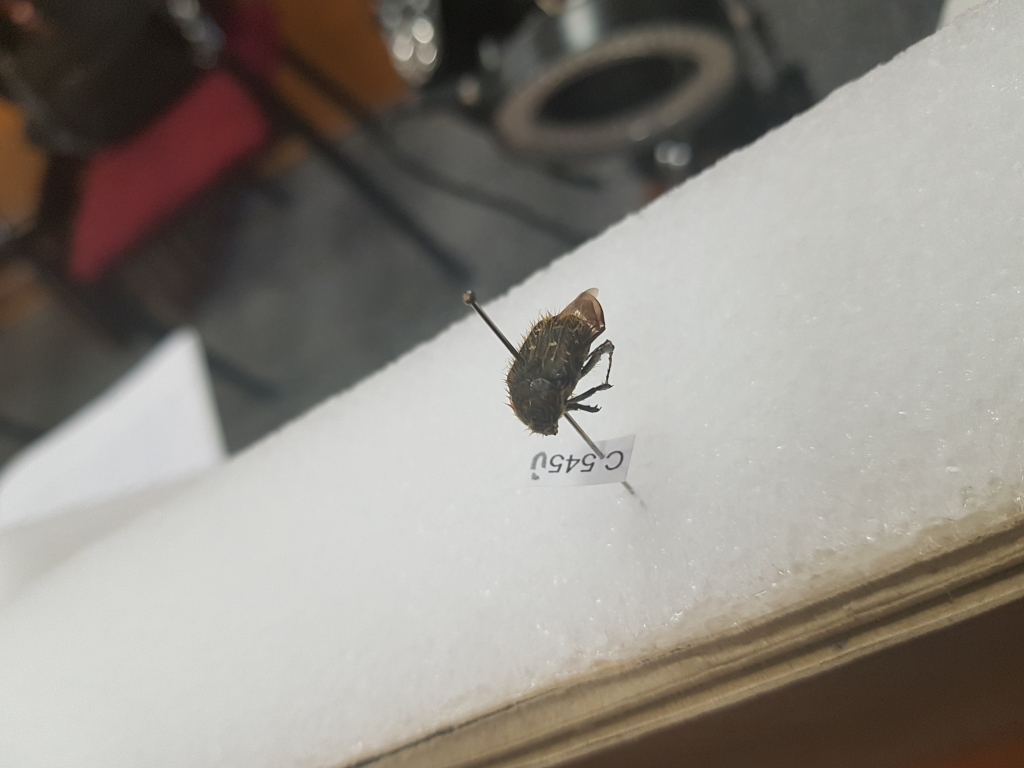Tropinota_hirta: (498, 282, 642, 441)
